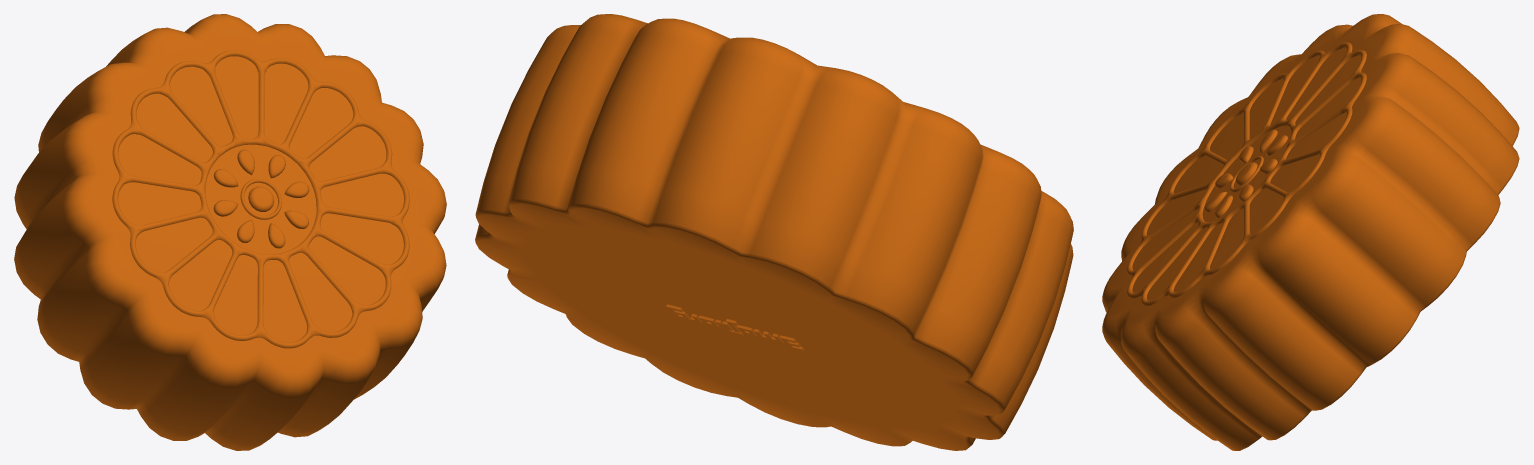
The model's file is moon_cake.fbx.
The picture shows the model from 3 angles, left to right: view 1: azimuth 30°, elevation 25°; view 2: azimuth 150°, elevation 25°; view 3: azimuth 270°, elevation 25°; orthographic projection. The views are drawn at different scales.
Parts seen in each view (by area): view 1: Circle.2249; view 2: Circle.2249; view 3: Circle.2249.
Boxes of the visible parts, left/top/right/bottom form: Circle.2249: left=14, top=14, right=446, bottom=450; Circle.2249: left=475, top=14, right=1073, bottom=450; Circle.2249: left=1102, top=14, right=1519, bottom=450.
Bounding box in the file's own units: 224 × 209 × 209.
Materials: 1 (1 with a texture image).
